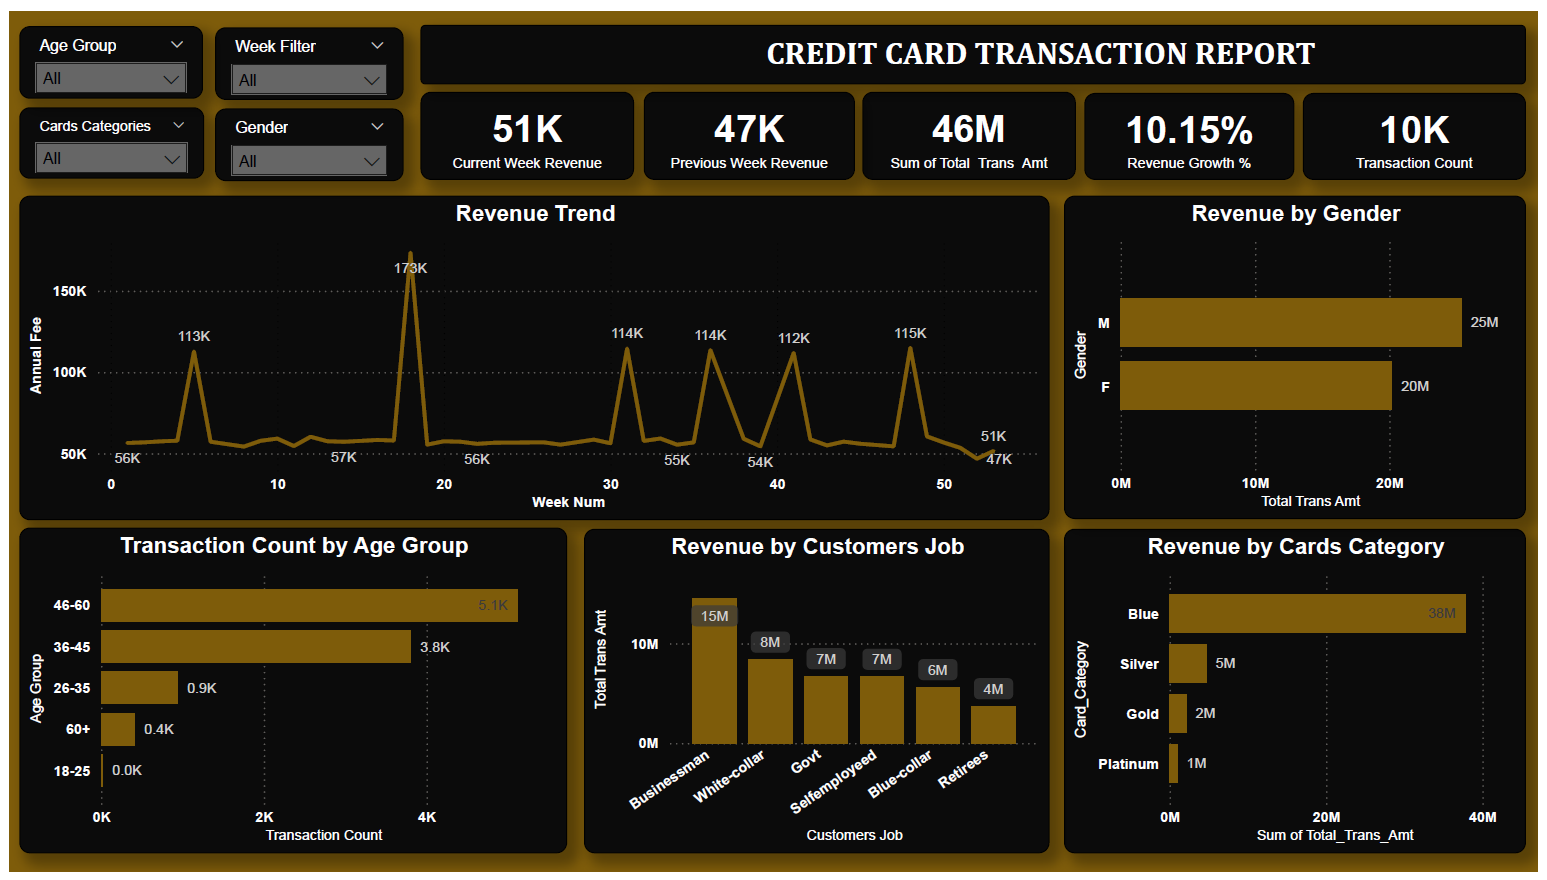

What the dashboard file says about the page in this screenshot:
{"tool":"powerbi","page":{"name":"Transaction report","canvas":[1280,720],"ordinal":1},"visuals":[{"type":"card","fields":{"Values":["CreditCard.Total Revenue"]},"box":[714.1,67.5,179,73.1],"z":0},{"type":"card","fields":{"Values":["CreditCard.Current Week Revenue"]},"box":[343.9,67.5,179,73.1],"z":1000},{"type":"card","fields":{"Values":["CreditCard.Previous Week Revenue"]},"box":[531.4,67.5,176.2,73.1],"z":2000},{"type":"card","fields":{"Values":["CreditCard.Revenue Growth %"]},"box":[899.7,68.4,176.2,72.2],"z":3000},{"type":"slicer","fields":{"Values":["CreditCard.Week Num"]},"box":[172.4,13.1,157.4,60.9],"z":5000},{"type":"slicer","fields":{"Values":["CreditCard.Card_Category"]},"box":[8.4,79.7,321.5,60.9],"z":6000},{"type":"lineChart","title":"Revenue Trend","fields":{"Category":["CreditCard.Week Num"],"Y":["CreditCard.Total Revenue"]},"box":[8.4,153.7,765.7,272.7],"z":7000},{"type":"clusteredBarChart","title":"Revenue by Cards Category","fields":{"Category":["CreditCard.Card_Category"],"Y":["CreditCard.Total Revenue"]},"box":[514.6,437.6,755.5,268],"z":8000},{"type":"lineChart","title":" Revenue by Gender","fields":{"Category":["customer.Gender"],"Y":["CreditCard.Total Revenue"]},"box":[8.4,437.7,493,268],"z":9000},{"type":"card","fields":{"Values":["CreditCard.Transaction Count"]},"box":[1083.4,68.4,186.5,72.2],"z":10000},{"type":"slicer","fields":{"Values":["customer.Age Group"]},"box":[8.4,12.2,153.7,60.9],"z":12000},{"type":"lineStackedColumnComboChart","title":" Revenue by Customers Job","fields":{"Y":["CreditCard.Total Revenue"],"Category":["customer.Customer_Job"]},"box":[783.5,153.7,486.4,272.7],"z":14000},{"type":"textbox","box":[343.9,11.2,925.9,49.7],"z":15000}]}

Visuals, with their boxes in screenshot pixels (x1, y1, x2, y2), scaled from the page's 1280x720 canvas onto the 1547x880 screenshot:
card - CreditCard.Total Revenue: [x1=863, y1=82, x2=1079, y2=172]
card - CreditCard.Current Week Revenue: [x1=416, y1=82, x2=632, y2=172]
card - CreditCard.Previous Week Revenue: [x1=642, y1=82, x2=855, y2=172]
card - CreditCard.Revenue Growth %: [x1=1087, y1=84, x2=1300, y2=172]
slicer - CreditCard.Week Num: [x1=208, y1=16, x2=399, y2=90]
slicer - CreditCard.Card_Category: [x1=10, y1=97, x2=399, y2=172]
"Revenue Trend" lineChart: [x1=10, y1=188, x2=936, y2=521]
"Revenue by Cards Category" clusteredBarChart: [x1=622, y1=535, x2=1535, y2=862]
" Revenue by Gender" lineChart: [x1=10, y1=535, x2=606, y2=863]
card - CreditCard.Transaction Count: [x1=1309, y1=84, x2=1535, y2=172]
slicer - customer.Age Group: [x1=10, y1=15, x2=196, y2=89]
" Revenue by Customers Job" lineStackedColumnComboChart: [x1=947, y1=188, x2=1535, y2=521]
textbox: [x1=416, y1=14, x2=1535, y2=74]
